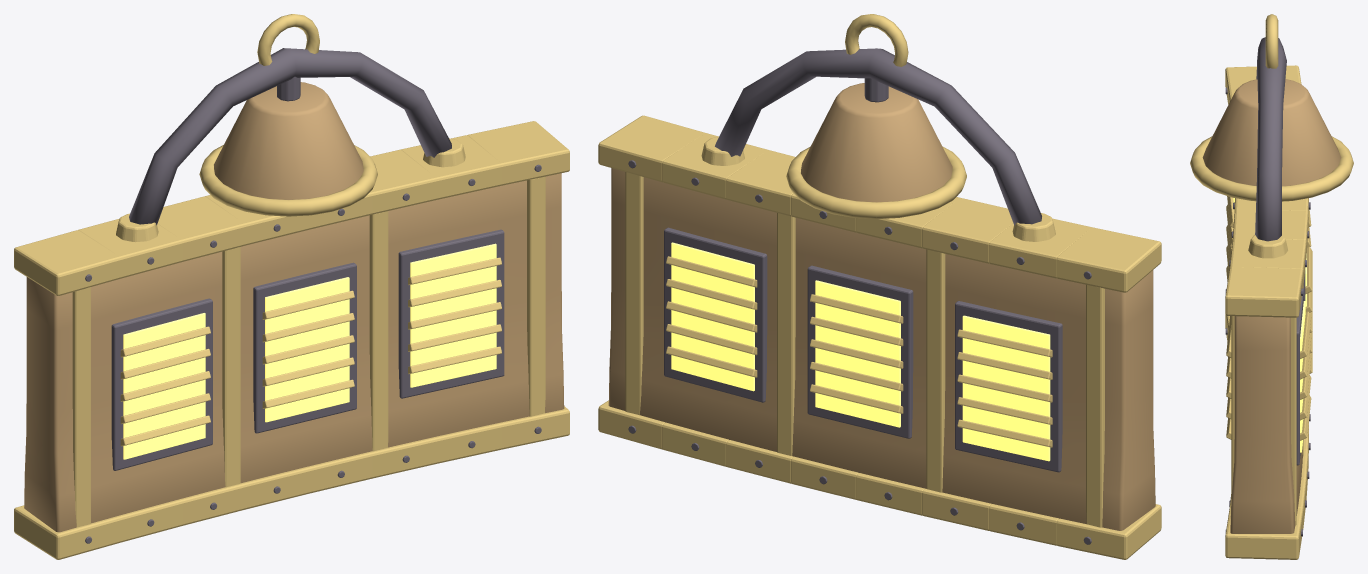
File: curved_bell.glb
3 renders of one model, left to right at view 1: azimuth 30°, elevation 25°; view 2: azimuth 150°, elevation 25°; view 3: azimuth 270°, elevation 25°, orthographic. The views are drawn at different scales.
Visible parts, largest first — view 1: BellCrownDome, AcousticRib-1.25, BellHanger, EmberPanel_-2.45_-1.0; view 2: BellCrownDome, AcousticRib-1.25, BellHanger, EmberPanel_-2.45_-1.0; view 3: BellCrownDome, AcousticRib-1.25, BellHanger, EmberPanel_-2.45_-1.0.
Boxes of the visible parts, box(x1,y1,x2,y2) form: BellCrownDome: box(24, 82, 564, 532); AcousticRib-1.25: box(14, 14, 569, 559); BellHanger: box(85, 48, 541, 543); EmberPanel_-2.45_-1.0: box(123, 243, 496, 459); BellCrownDome: box(608, 83, 1155, 530); AcousticRib-1.25: box(598, 14, 1161, 559); BellHanger: box(628, 48, 1091, 544); EmberPanel_-2.45_-1.0: box(671, 242, 1050, 461); BellCrownDome: box(1202, 79, 1341, 533); AcousticRib-1.25: box(1190, 14, 1353, 559); BellHanger: box(1225, 37, 1310, 536); EmberPanel_-2.45_-1.0: box(1233, 198, 1306, 452).
Bounding box in the file's own units: 8.84 × 7.52 × 2.62.
